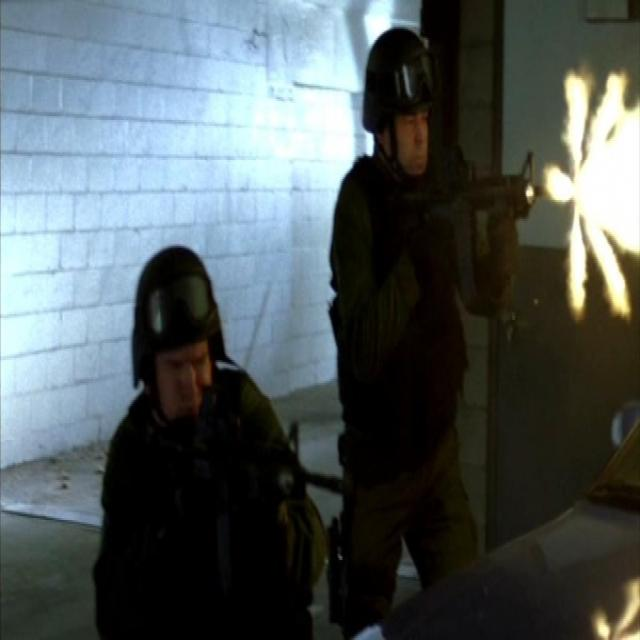rifle: (411, 142, 549, 306)
